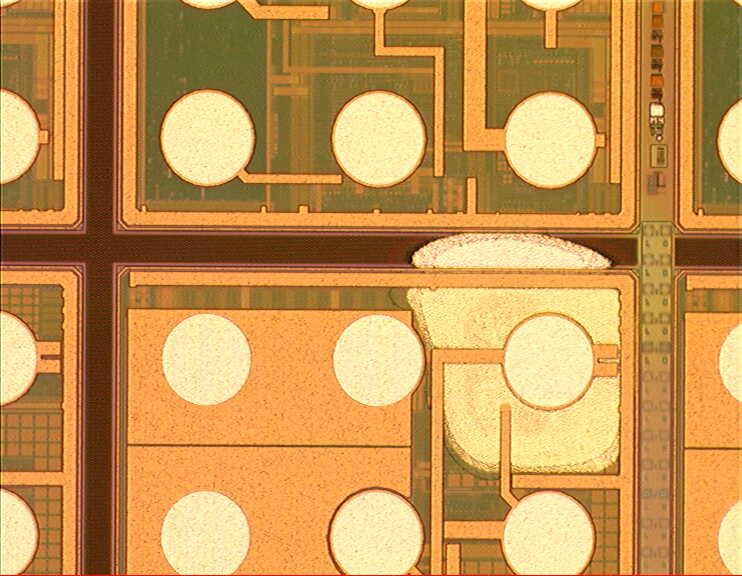BLOCK ETCH: (386, 231, 643, 486)
